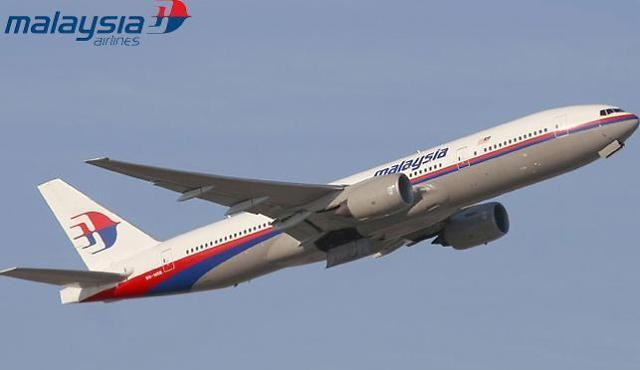airplane: (2, 103, 640, 304)
